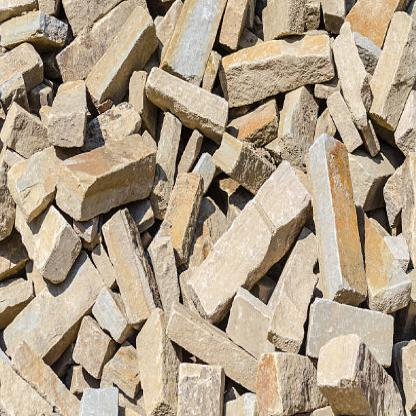Sedimentary_Limestone: (184, 173, 320, 328), (6, 268, 129, 383), (303, 132, 377, 305), (77, 6, 177, 116), (47, 124, 166, 214), (160, 303, 258, 404), (144, 52, 227, 151), (328, 327, 412, 415), (220, 39, 339, 100), (252, 341, 329, 415), (29, 206, 89, 284)
